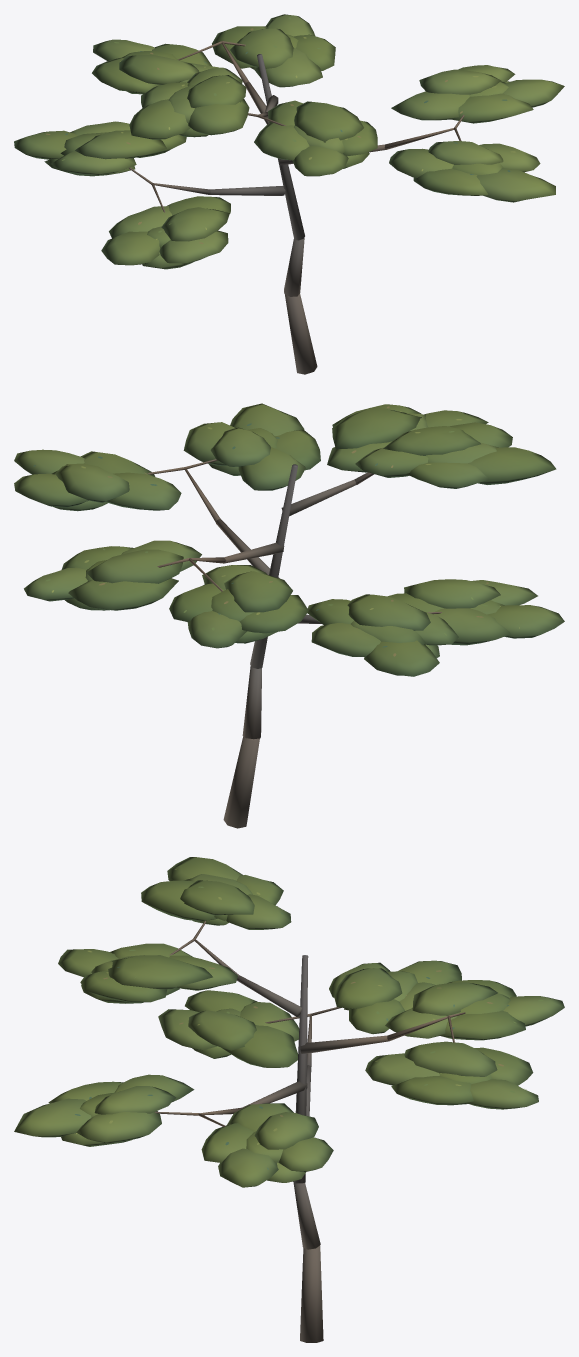
File: HK_Tree_Pine.glb
The picture shows the model from 3 angles, top to bottom: view 1: azimuth 30°, elevation 25°; view 2: azimuth 150°, elevation 25°; view 3: azimuth 270°, elevation 25°; orthographic projection. The views are drawn at different scales.
Parts seen in each view (by area): view 1: HK_Tree_Pine; view 2: HK_Tree_Pine; view 3: HK_Tree_Pine.
Boxes of the visible parts, x1,y1,x2,y2 form: HK_Tree_Pine: (14, 14, 564, 374); HK_Tree_Pine: (14, 403, 564, 828); HK_Tree_Pine: (14, 857, 564, 1342).
Bounding box in the file's own units: 8.65 × 6.14 × 8.06.
